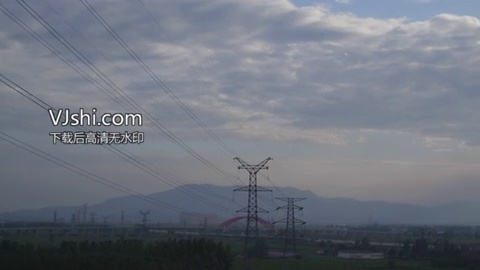tower_body: (228, 151, 278, 242), (274, 191, 310, 238)
tower_head: (231, 153, 276, 172), (276, 193, 307, 211)
